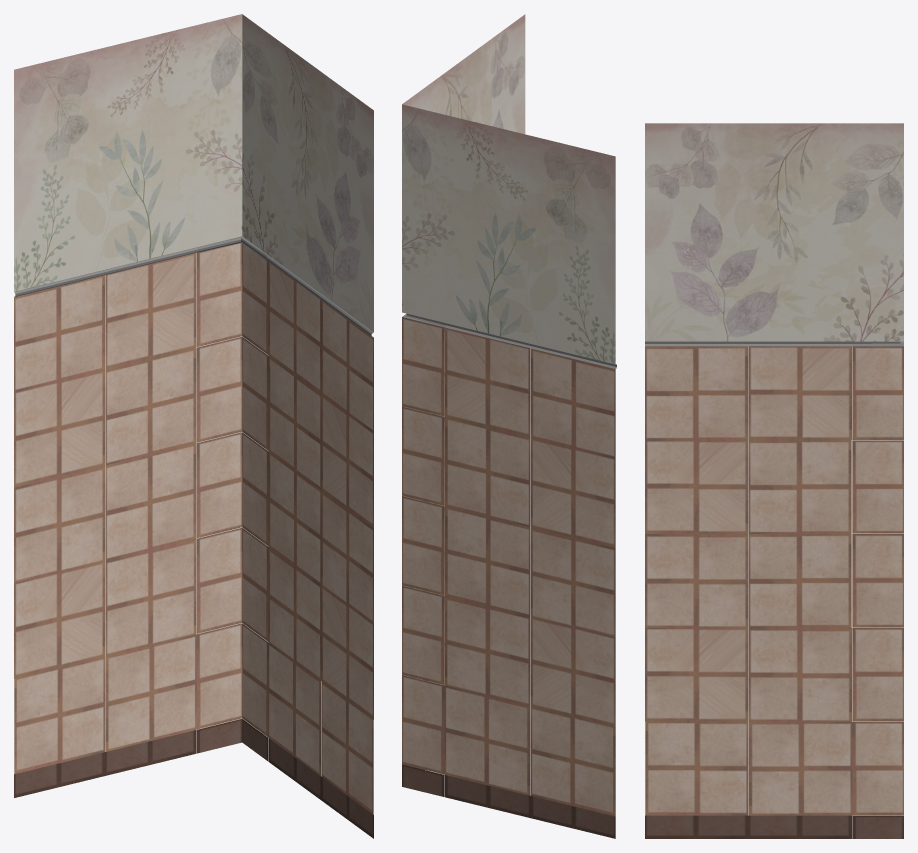
Rendered from MT_BR_ClosedCorner.fbx.
The picture shows the model from 3 angles, left to right: view 1: azimuth 30°, elevation 25°; view 2: azimuth 150°, elevation 25°; view 3: azimuth 270°, elevation 25°; orthographic projection. The views are drawn at different scales.
Parts seen in each view (by area): view 1: MT_BR_ClosedCorner; view 2: MT_BR_ClosedCorner; view 3: MT_BR_ClosedCorner.
Part boxes in pixels (x1=…): MT_BR_ClosedCorner: x1=14, y1=14, x2=373, y2=838; MT_BR_ClosedCorner: x1=402, y1=14, x2=616, y2=838; MT_BR_ClosedCorner: x1=645, y1=123, x2=903, y2=838.
Size of the model in its own units: 99.98 by 305 by 99.98.
